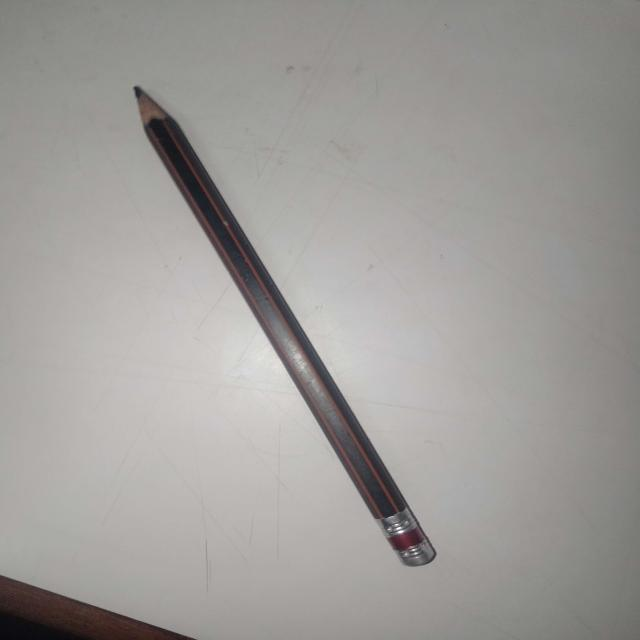pen_pencil: (104, 77, 448, 587)
